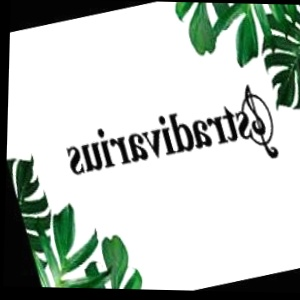stradivarius: (268, 40, 300, 112)
